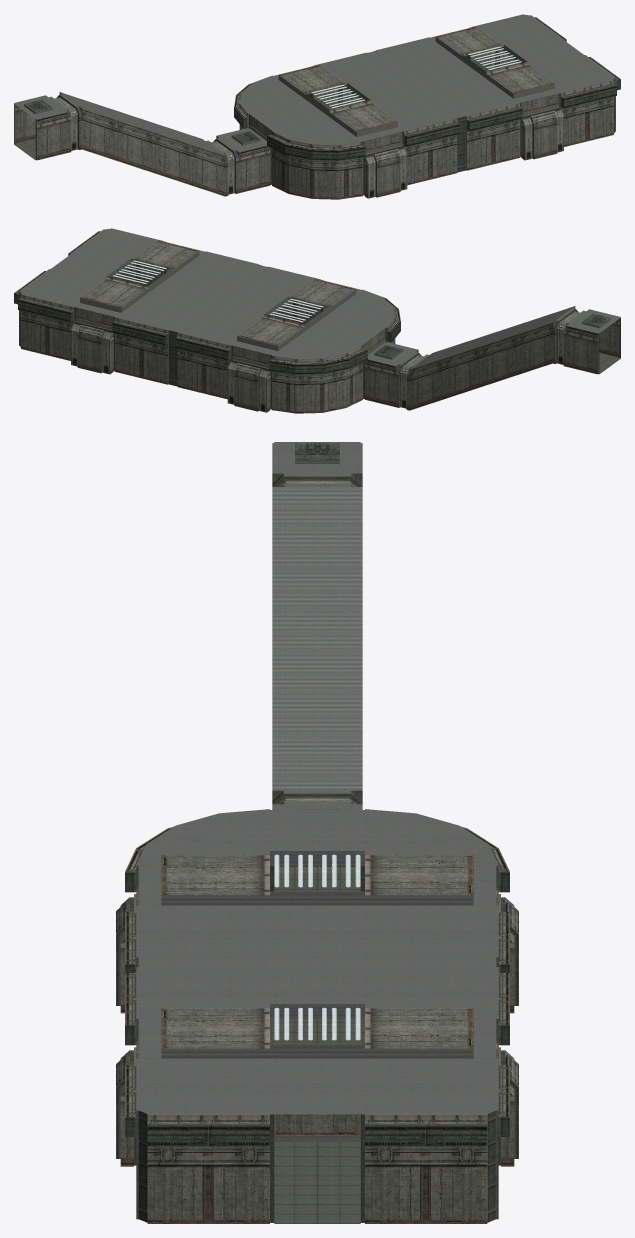
The model's file is poi_all_impl_bunker_crimelord_retreat_s01_r1_leftguardroom_mesh_r1.fbx.
3 renders of one model, top to bottom at view 1: azimuth 30°, elevation 25°; view 2: azimuth 150°, elevation 25°; view 3: azimuth 270°, elevation 25°, orthographic. The views are drawn at different scales.
Parts seen in each view (by area): view 1: mesh_node; view 2: mesh_node; view 3: mesh_node.
Boxes of the visible parts, box(x1,y1,x2,y2) form: mesh_node: box(14, 14, 620, 199); mesh_node: box(14, 228, 620, 413); mesh_node: box(116, 442, 518, 1223).
Bounding box in the file's own units: 56.5 × 12.2 × 17.8.
